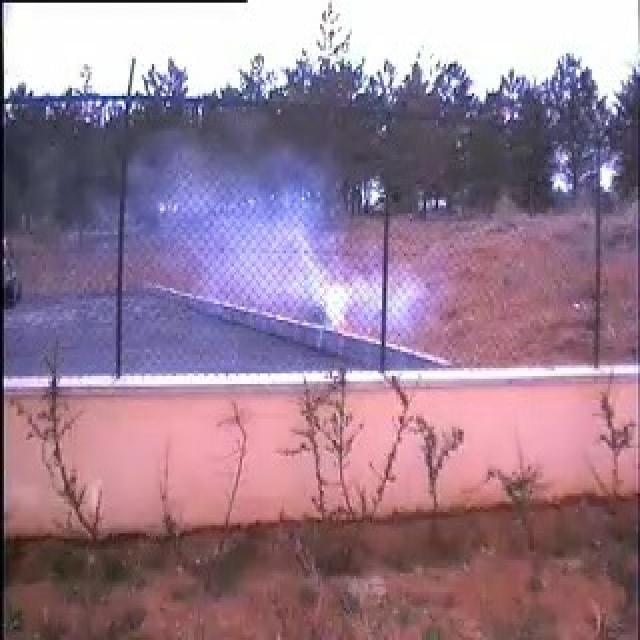smoke: (138, 125, 428, 342)
